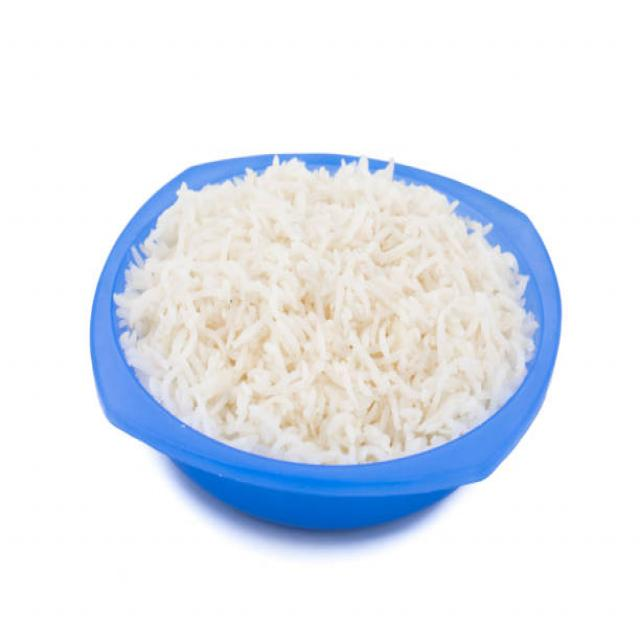rice: (113, 152, 541, 468)
